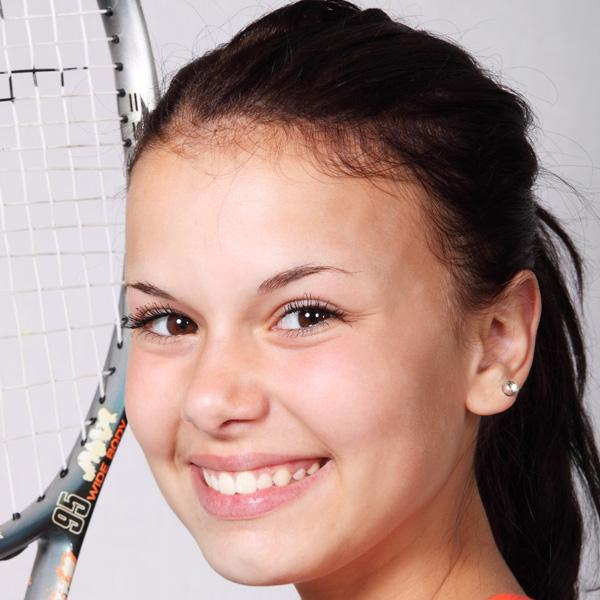Eyes: (258, 289, 355, 344), (132, 300, 202, 349)
